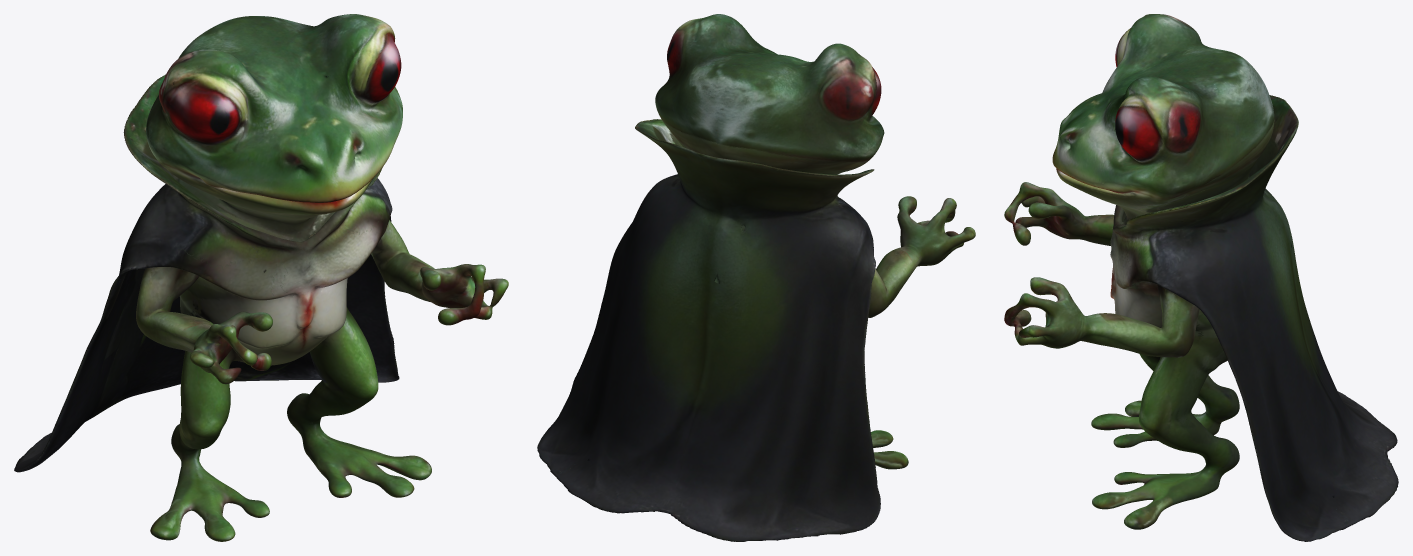
File: frog.fbx
3 views of the same model, side by side, from view 1: azimuth 30°, elevation 25°; view 2: azimuth 150°, elevation 25°; view 3: azimuth 270°, elevation 25° (orthographic). The views are drawn at different scales.
Visible parts, largest first — view 1: Mesh_0; view 2: Mesh_0; view 3: Mesh_0.
Part boxes in pixels (x1=…): Mesh_0: x1=14, y1=14, x2=508, y2=541; Mesh_0: x1=537, y1=14, x2=975, y2=541; Mesh_0: x1=1004, y1=14, x2=1398, y2=541.
Bounding box in the file's own units: 170 × 200 × 169.
1 material, 1 textured.
